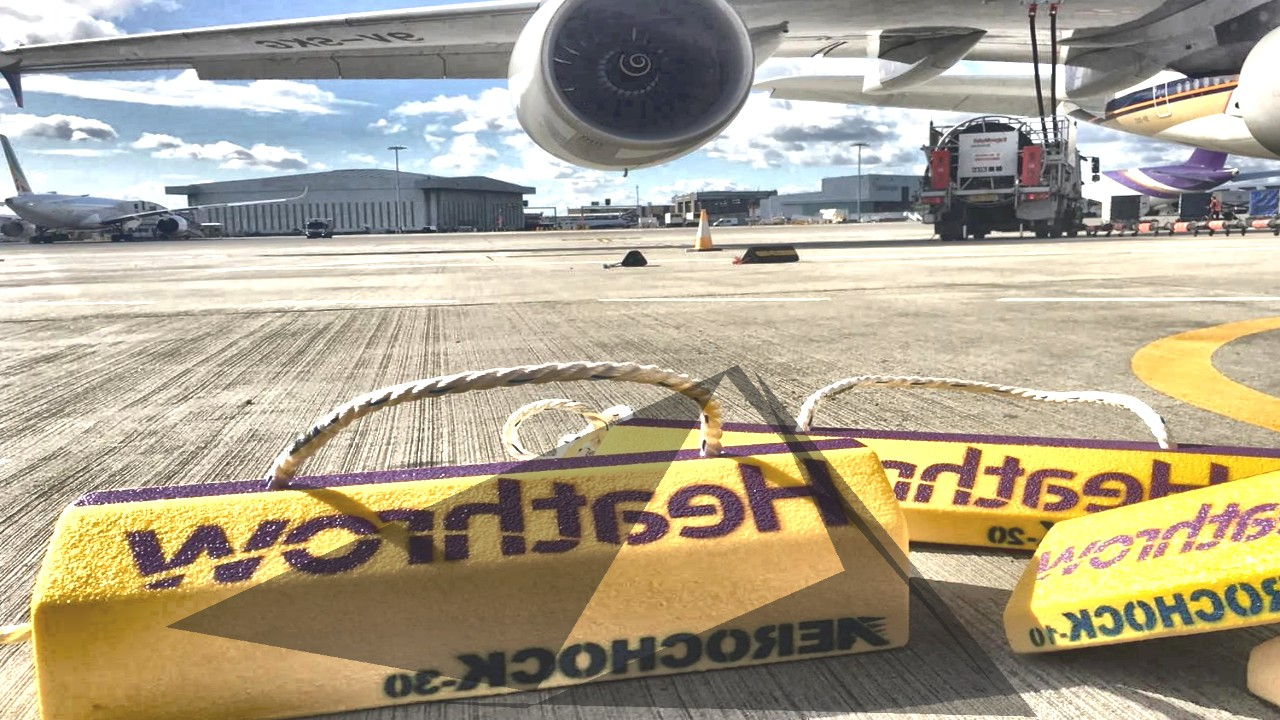chock: (29, 428, 919, 720), (592, 387, 1280, 578), (994, 428, 1280, 657)
